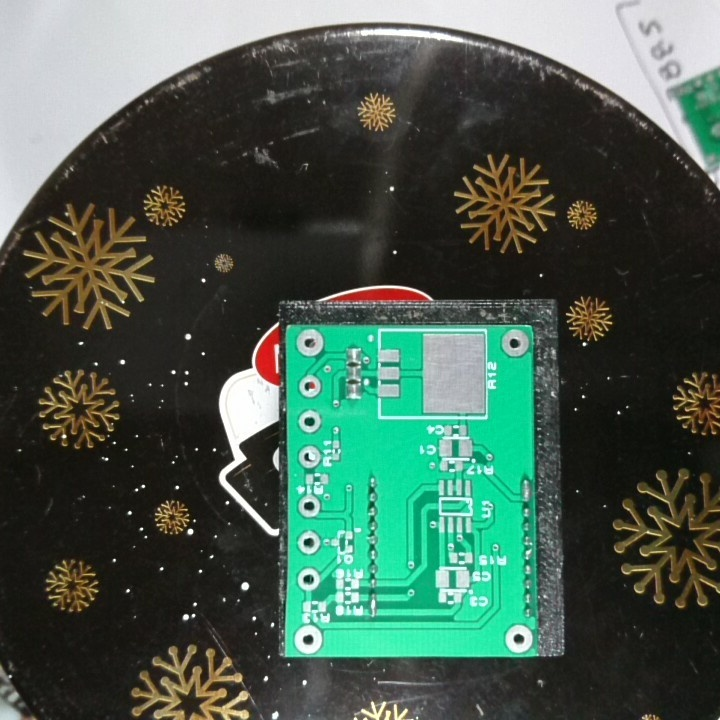F: (500, 327, 531, 360), (294, 327, 325, 358), (293, 622, 324, 652), (502, 624, 534, 653), (297, 529, 322, 558), (296, 567, 324, 592), (297, 409, 322, 435), (298, 374, 322, 401), (297, 443, 321, 469), (297, 492, 320, 518)
P: (367, 590, 379, 618), (520, 477, 532, 503)
